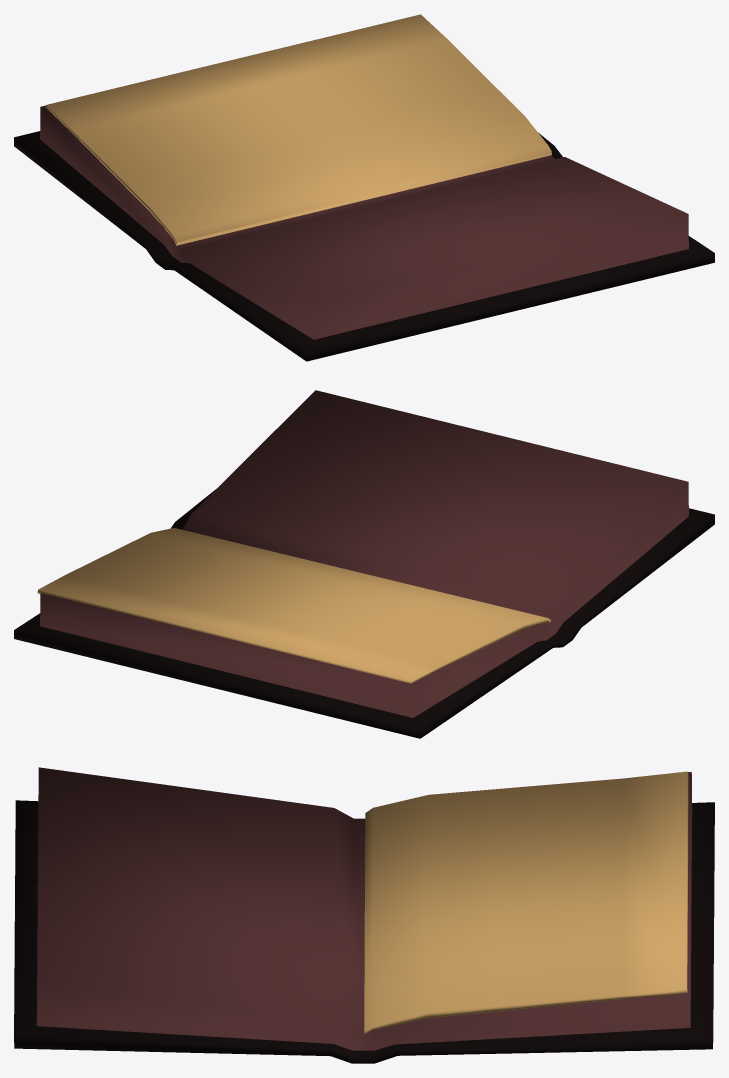
The model's file is Book+Animation Textured.fbx.
3 renders of one model, top to bottom at view 1: azimuth 30°, elevation 25°; view 2: azimuth 150°, elevation 25°; view 3: azimuth 270°, elevation 25°, orthographic. The views are drawn at different scales.
Visible parts, largest first — view 1: Book (×2), Backup Loose Page; view 2: Book (×2), Backup Loose Page; view 3: Book (×2), Backup Loose Page.
Part boxes in pixels (<box>): Book (×2): <box>14,105,714,361</box>; Backup Loose Page: <box>45,14,551,245</box>; Book (×2): <box>14,390,714,738</box>; Backup Loose Page: <box>37,528,550,683</box>; Book (×2): <box>14,767,714,1063</box>; Backup Loose Page: <box>364,771,688,1034</box>.
Bounding box in the file's own units: 2962 × 401 × 3698.
